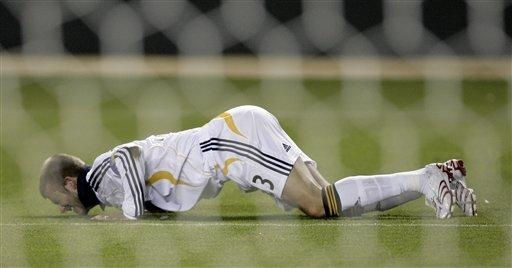falling: (32, 93, 478, 228)
